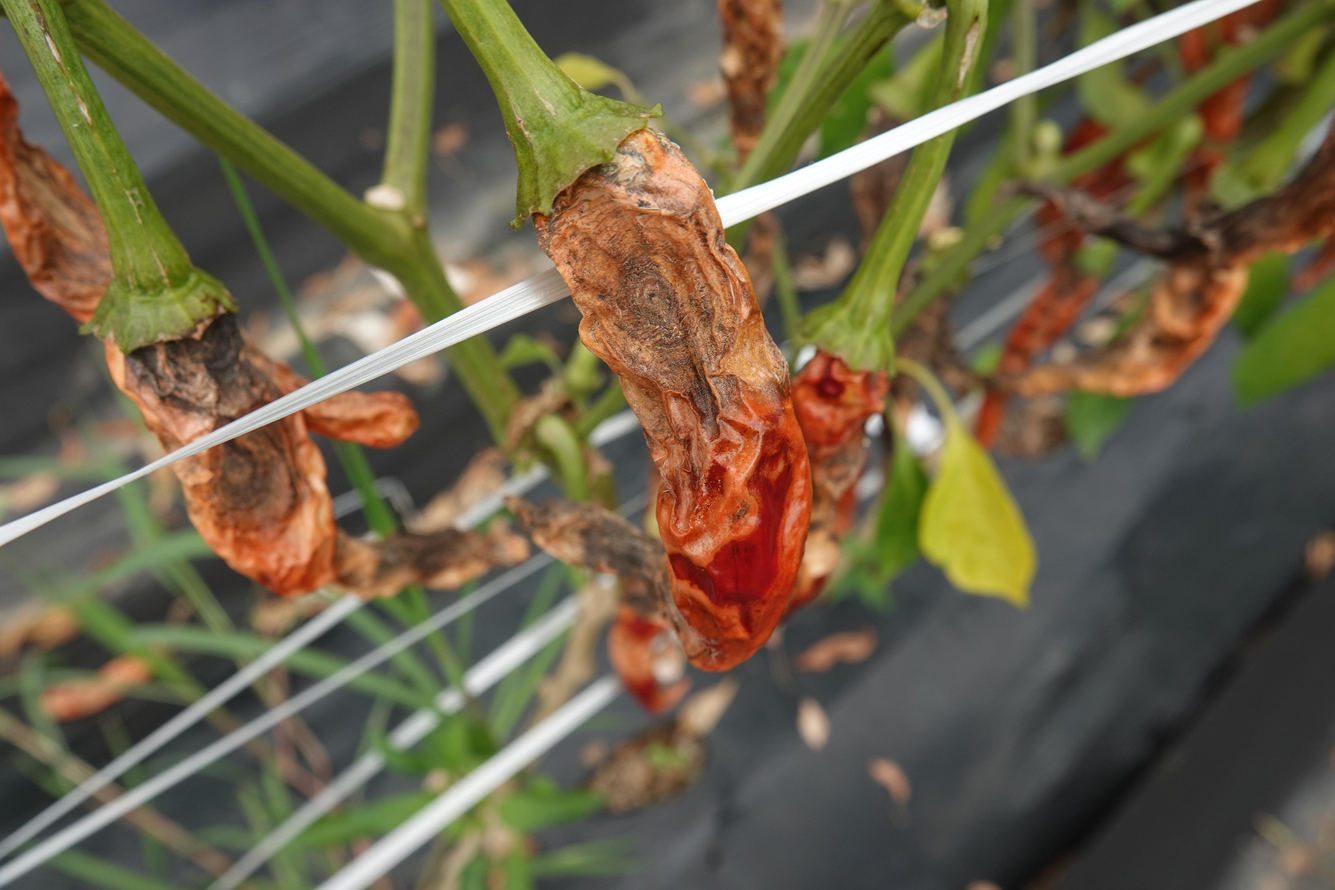Busuk Buah Antraknosa: (510, 86, 815, 679), (88, 272, 338, 607)
